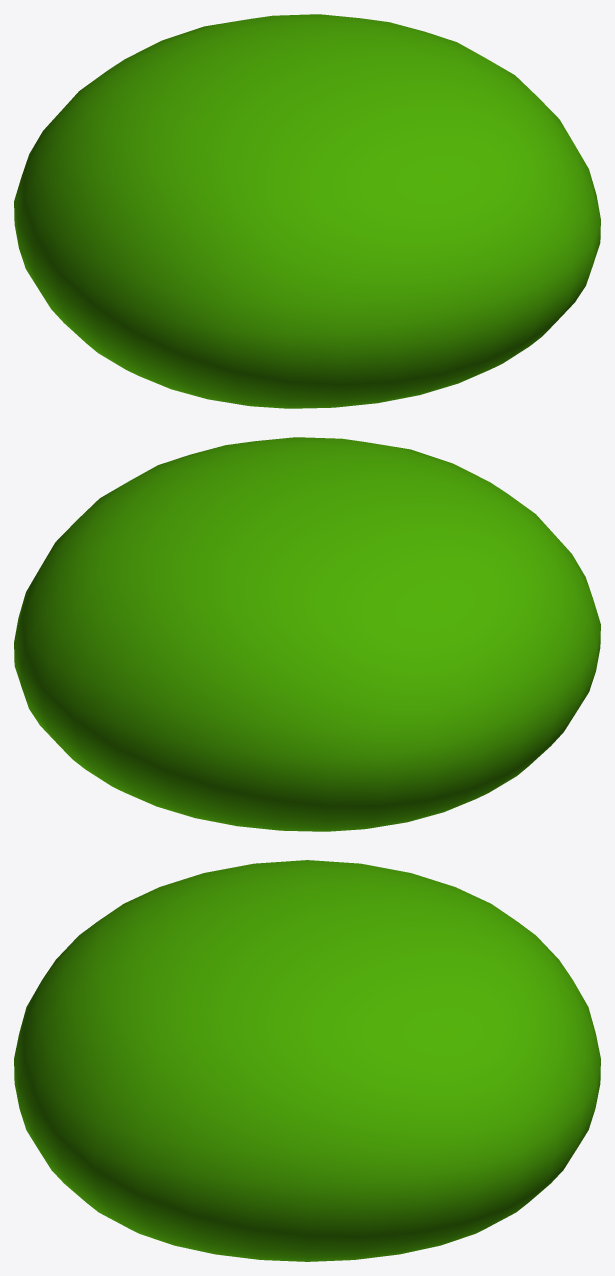
The model's file is Bread.fbx.
3 renders of one model, top to bottom at view 1: azimuth 30°, elevation 25°; view 2: azimuth 150°, elevation 25°; view 3: azimuth 270°, elevation 25°, orthographic. The views are drawn at different scales.
Parts seen in each view (by area): view 1: Bread; view 2: Bread; view 3: Bread.
Part boxes in pixels (x1,y1,x2,y2): Bread: (14, 14, 600, 408); Bread: (14, 437, 600, 831); Bread: (14, 860, 600, 1261).
Size of the model in its own units: 140 by 74.66 by 140.
